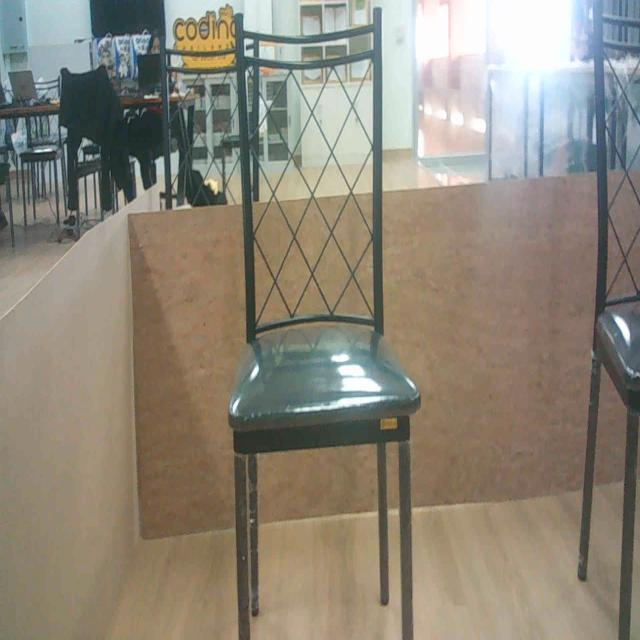emtpy: (236, 12, 421, 640)
